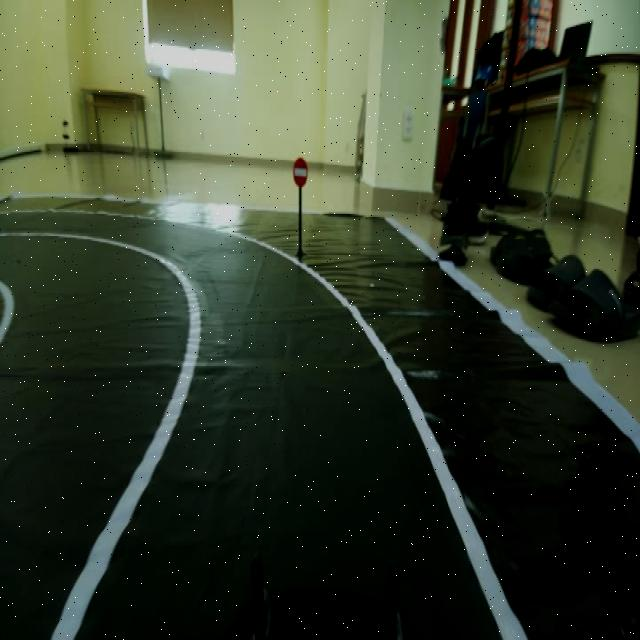no_entry: (285, 144, 314, 192)
